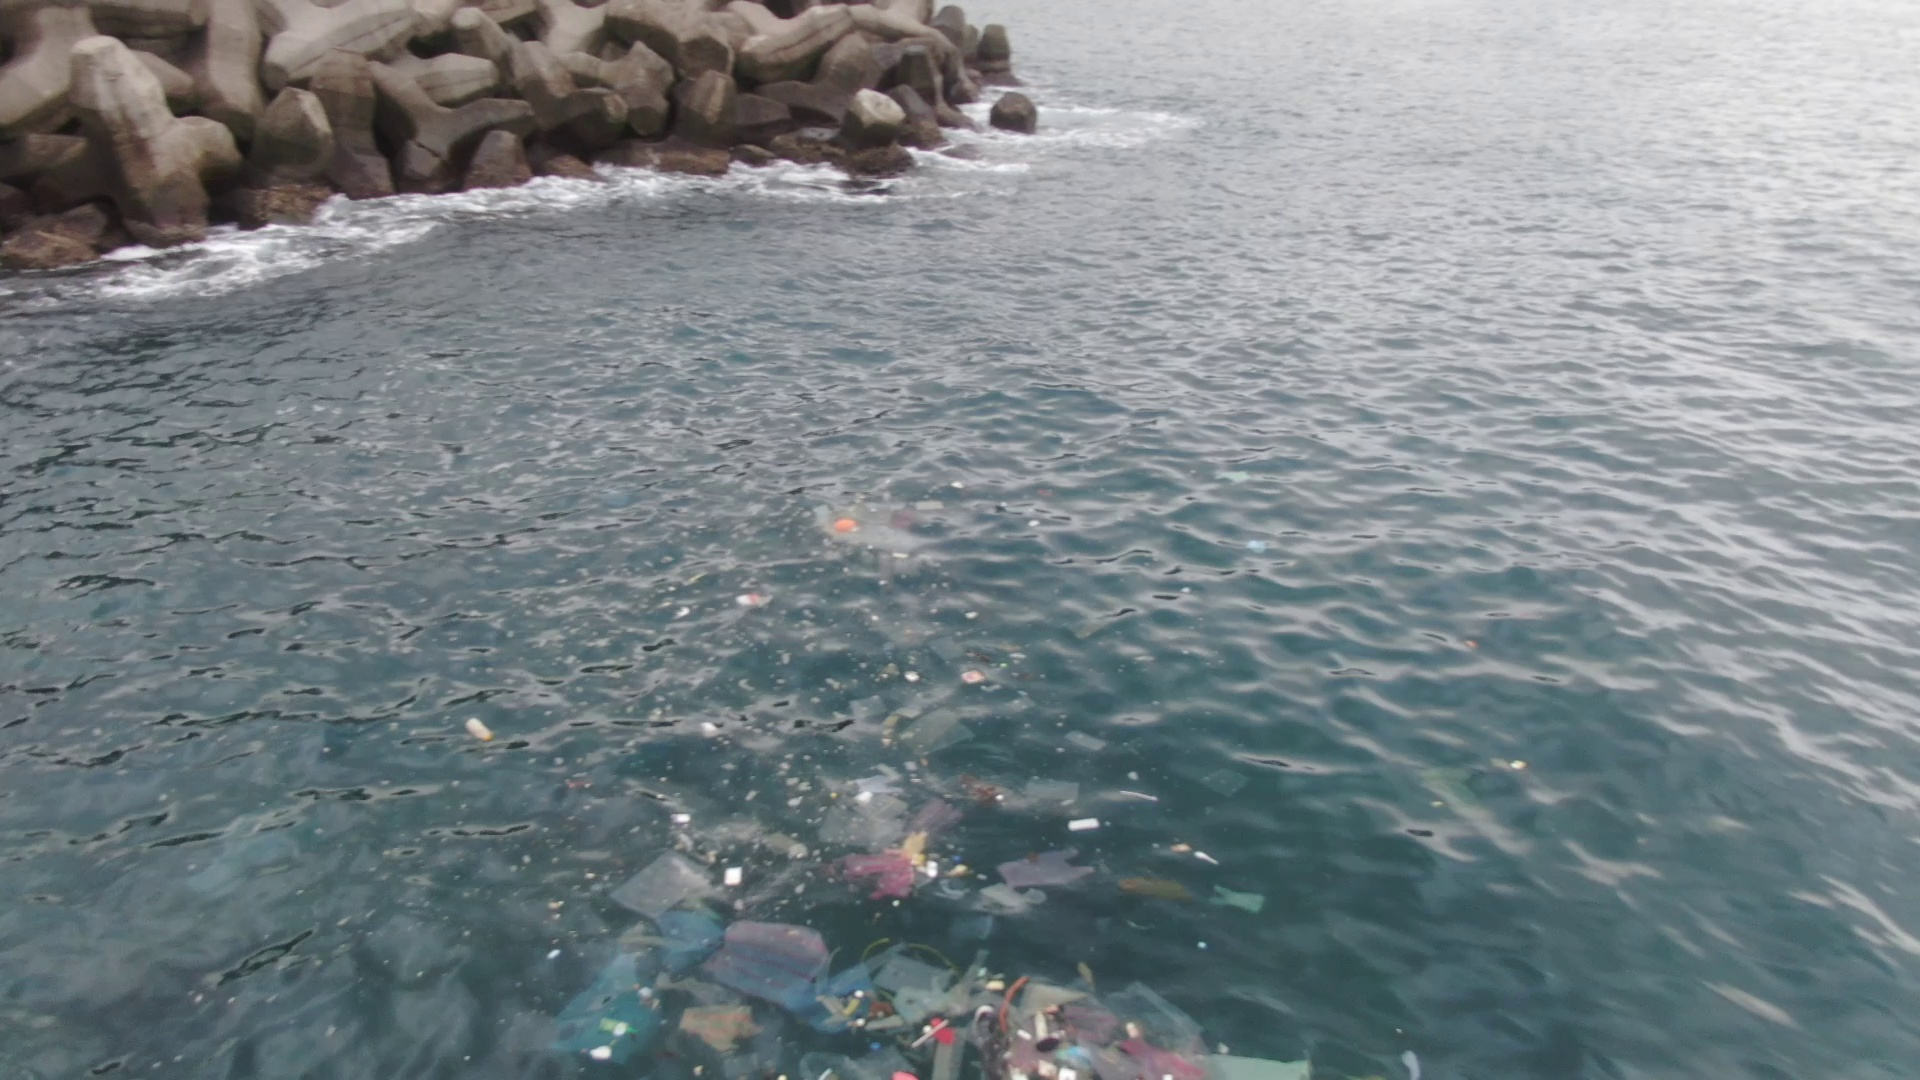garbage: (541, 786, 1338, 1080)
